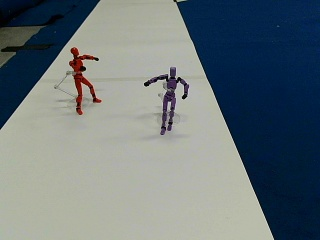pedestrian: (142, 68, 189, 132), (68, 46, 101, 113)
